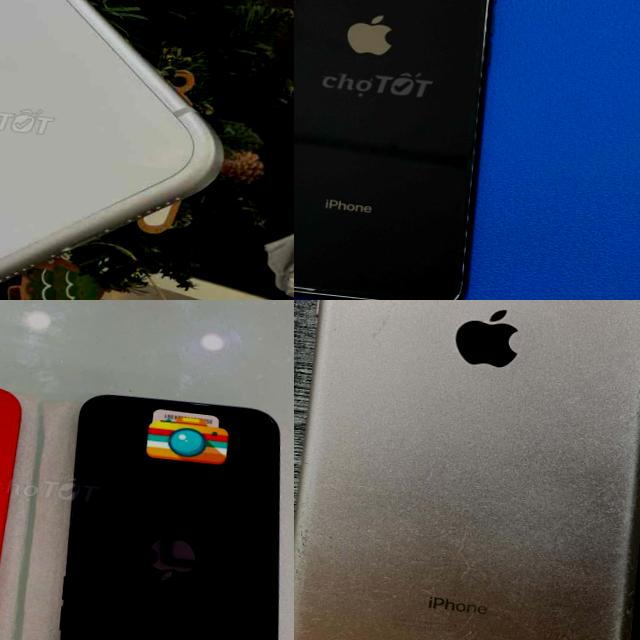gen_14: (36, 387, 294, 640)
gen_17: (0, 0, 258, 300)
gen_7_8: (294, 300, 640, 640)
gen_x_xs: (294, 0, 492, 300)
scratch: (536, 484, 632, 546), (604, 579, 632, 637), (370, 300, 408, 340), (448, 521, 474, 578), (555, 602, 583, 640), (294, 524, 311, 581), (437, 622, 475, 640), (315, 285, 354, 298), (323, 621, 349, 640), (294, 0, 311, 12), (331, 324, 338, 333)
